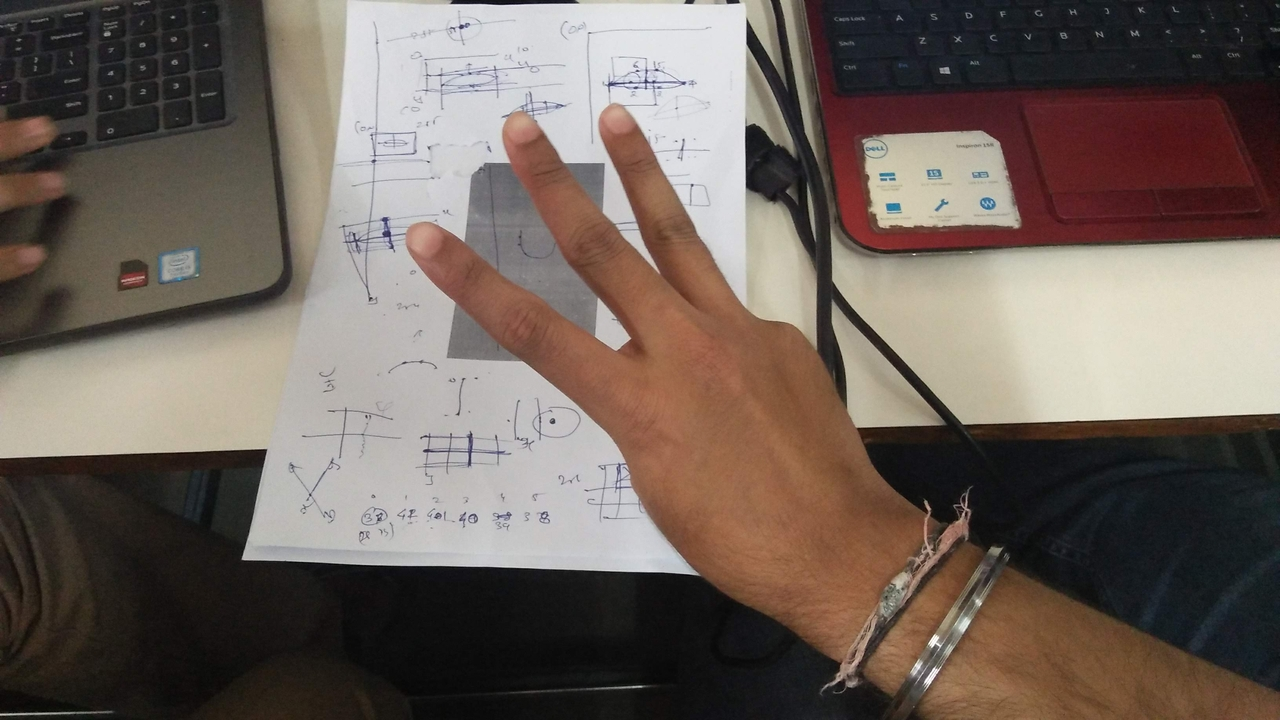fingertip: (398, 218, 452, 266), (590, 100, 642, 144), (496, 108, 546, 152)
